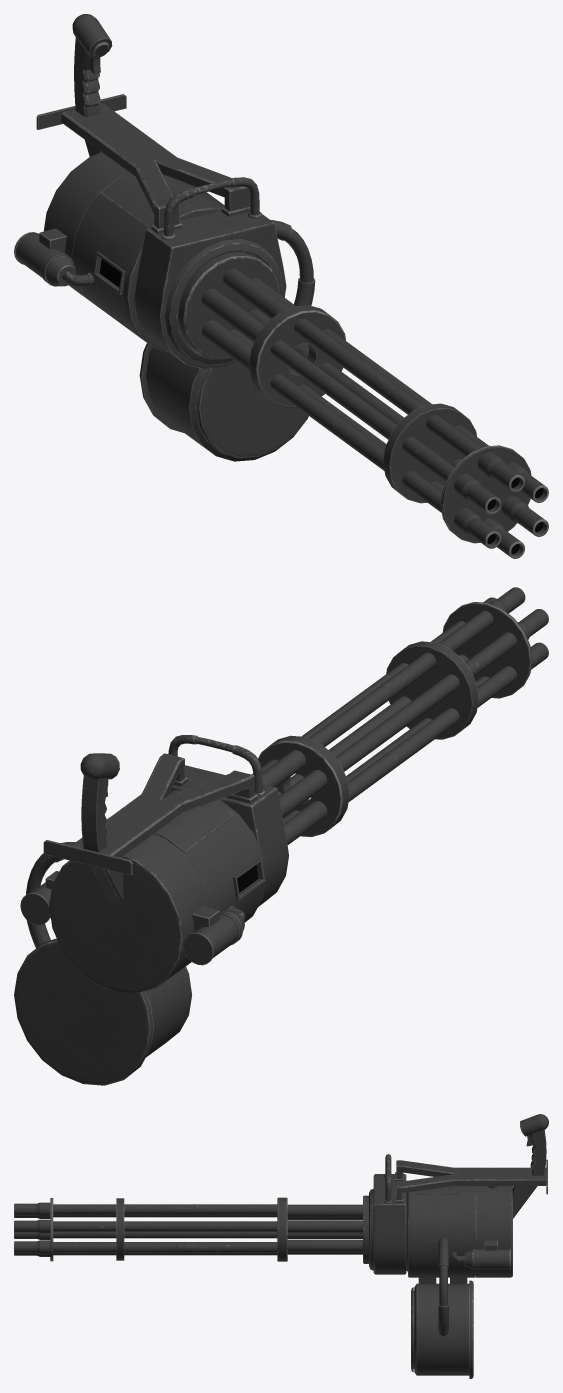
3 renders of one model, top to bottom at view 1: azimuth 30°, elevation 25°; view 2: azimuth 150°, elevation 25°; view 3: azimuth 270°, elevation 25°, orthographic. The views are drawn at different scales.
Parts seen in each view (by area): view 1: MotorUVModel, AmmoUVModel, SNDUVModel, GrapUVModel2, pCylinder17, pCylinder16, pCylinder20, Cylnder3UVModel, pCylinder10, group3_pCylinder13, pCylinder12, pCylinder18 (+7 smaller); view 2: MotorUVModel, AmmoUVModel, SNDUVModel, pCylinder17, pCylinder16, pCylinder20, group3_pCylinder13, GrapUVModel2, pCylinder10, pCylinder12, polySurface4 (×2), GrapUVModel3 (+7 smaller); view 3: MotorUVModel, AmmoUVModel, pCylinder15, pCylinder16, pCylinder18, SNDUVModel, GrapUVModel2, pCylinder20, pCylinder19, pCylinder17, GrapUVModel, polySurface4 (+7 smaller).
Part boxes in pixels (x1,y1,x2,y2): MotorUVModel: (43, 152, 283, 364); AmmoUVModel: (139, 343, 308, 461); SNDUVModel: (36, 94, 250, 233); GrapUVModel2: (134, 211, 286, 369); pCylinder17: (201, 288, 501, 514); pCylinder16: (223, 268, 524, 492); pCylinder20: (201, 320, 501, 548); Cylnder3UVModel: (178, 251, 279, 359); pCylinder10: (249, 305, 345, 407); group3_pCylinder13: (383, 403, 476, 503); pCylinder12: (440, 445, 531, 543); pCylinder18: (248, 309, 548, 536); MotorUVModel: (49, 789, 265, 993); AmmoUVModel: (14, 938, 191, 1085); SNDUVModel: (43, 753, 257, 875); pCylinder17: (279, 609, 548, 817); pCylinder16: (262, 587, 525, 787); pCylinder20: (284, 642, 548, 844); group3_pCylinder13: (386, 641, 478, 739); GrapUVModel2: (171, 765, 288, 906); pCylinder10: (258, 735, 349, 836); pCylinder12: (442, 602, 532, 698); polySurface4 (×2): (20, 882, 244, 965); GrapUVModel3: (81, 776, 108, 852); MotorUVModel: (369, 1186, 512, 1277); AmmoUVModel: (411, 1280, 473, 1378); pCylinder15: (14, 1219, 362, 1233); pCylinder16: (14, 1202, 362, 1216); pCylinder18: (14, 1239, 362, 1253); SNDUVModel: (395, 1159, 547, 1202); GrapUVModel2: (373, 1174, 406, 1274); pCylinder20: (14, 1231, 362, 1239); pCylinder19: (14, 1252, 362, 1256); pCylinder17: (14, 1214, 362, 1219); GrapUVModel: (438, 1237, 448, 1336); polySurface4: (464, 1248, 510, 1269).
Bounding box in the file's own units: 0.5904 × 0.9006 × 1.82.
1 material, 1 textured.
